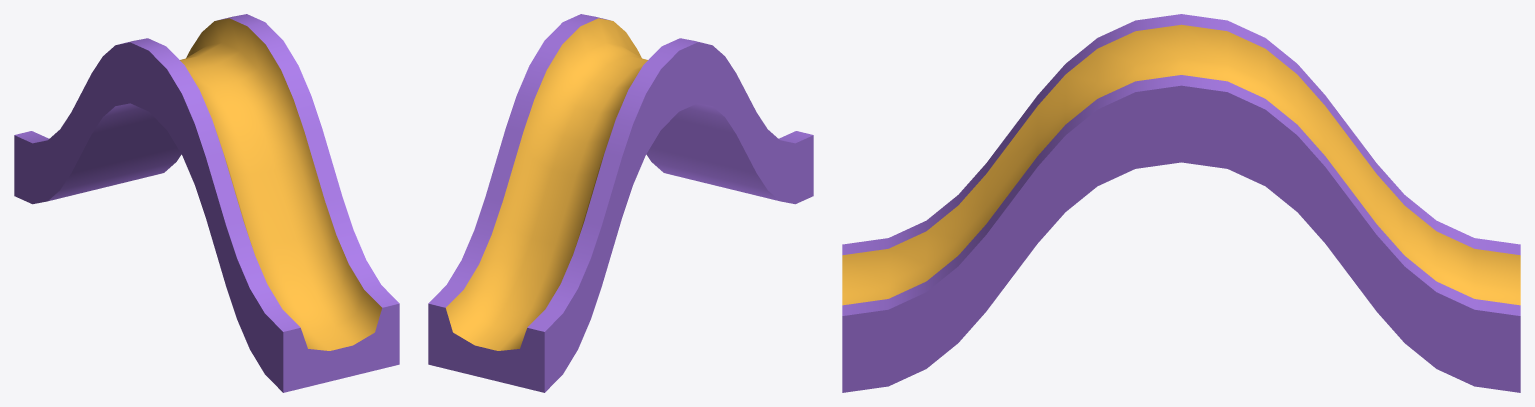
The model's file is kenney-marble-bump-d.glb.
3 renders of one model, left to right at view 1: azimuth 30°, elevation 25°; view 2: azimuth 150°, elevation 25°; view 3: azimuth 270°, elevation 25°, orthographic. The views are drawn at different scales.
Parts seen in each view (by area): view 1: bump-d; view 2: bump-d; view 3: bump-d.
Part boxes in pixels (bbox=[...]): bump-d: bbox=[14, 14, 399, 392]; bump-d: bbox=[428, 14, 813, 392]; bump-d: bbox=[842, 14, 1520, 392].
Size of the model in its own units: 1 by 2 by 4.
1 material, 1 textured.
